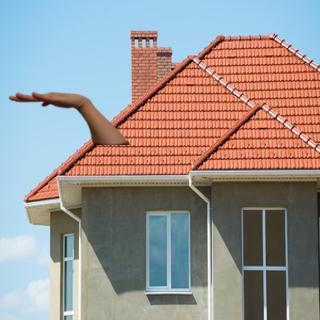WAIT: (9, 88, 91, 113)
